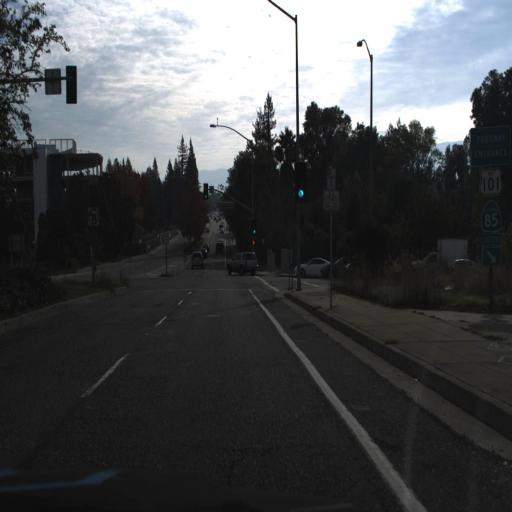car: (422, 235, 471, 262), (295, 253, 334, 285), (443, 249, 479, 283), (222, 248, 261, 276), (319, 252, 352, 282), (342, 253, 369, 280), (189, 248, 206, 270), (214, 238, 224, 255)
trafficLight-Green: (292, 160, 306, 202), (201, 181, 210, 202), (250, 216, 258, 236)
truck: (421, 233, 469, 266)
